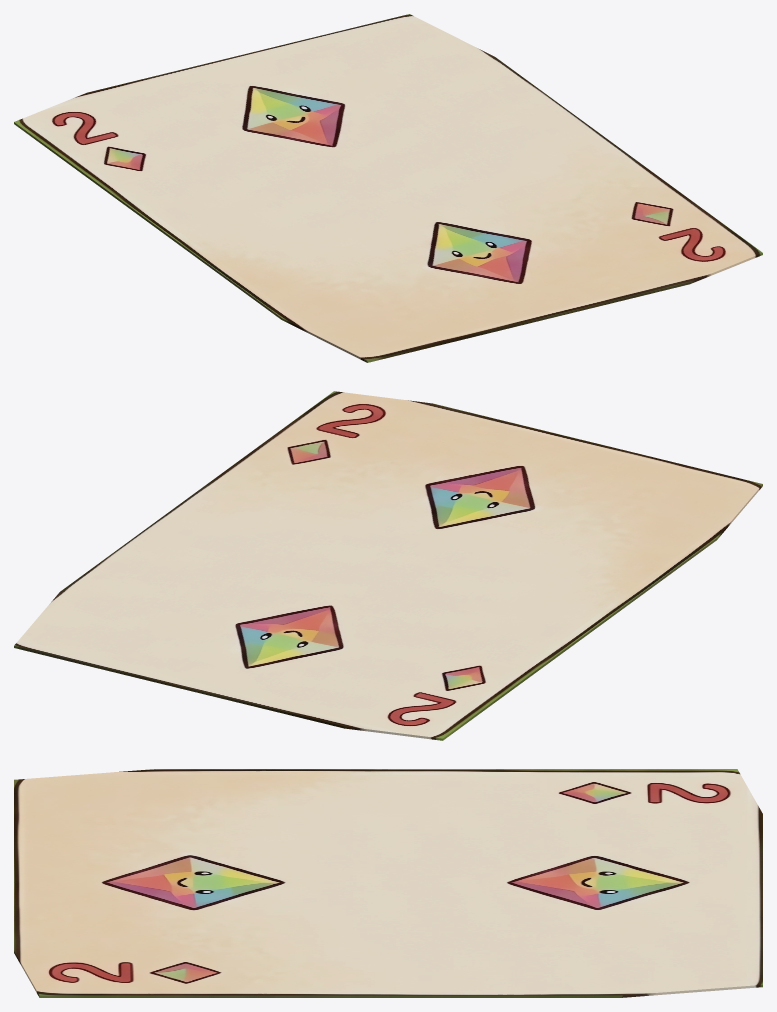
File: Carta_Poker_Cartoon_2_Diamantes.glb
3 renders of one model, top to bottom at view 1: azimuth 30°, elevation 25°; view 2: azimuth 150°, elevation 25°; view 3: azimuth 270°, elevation 25°, orthographic. The views are drawn at different scales.
Visible parts, largest first — view 1: Carta_Poker_Cartoon_2_Diamantes; view 2: Carta_Poker_Cartoon_2_Diamantes; view 3: Carta_Poker_Cartoon_2_Diamantes.
Part boxes in pixels (left/top/right/bottom): Carta_Poker_Cartoon_2_Diamantes: left=14, top=14, right=762, bottom=362; Carta_Poker_Cartoon_2_Diamantes: left=14, top=391, right=762, bottom=740; Carta_Poker_Cartoon_2_Diamantes: left=14, top=769, right=762, bottom=997.
Size of the model in its own units: 0.063 by 0.0003 by 0.088.
1 material, 1 textured.
